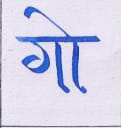e_matra: (26, 6, 76, 37)
